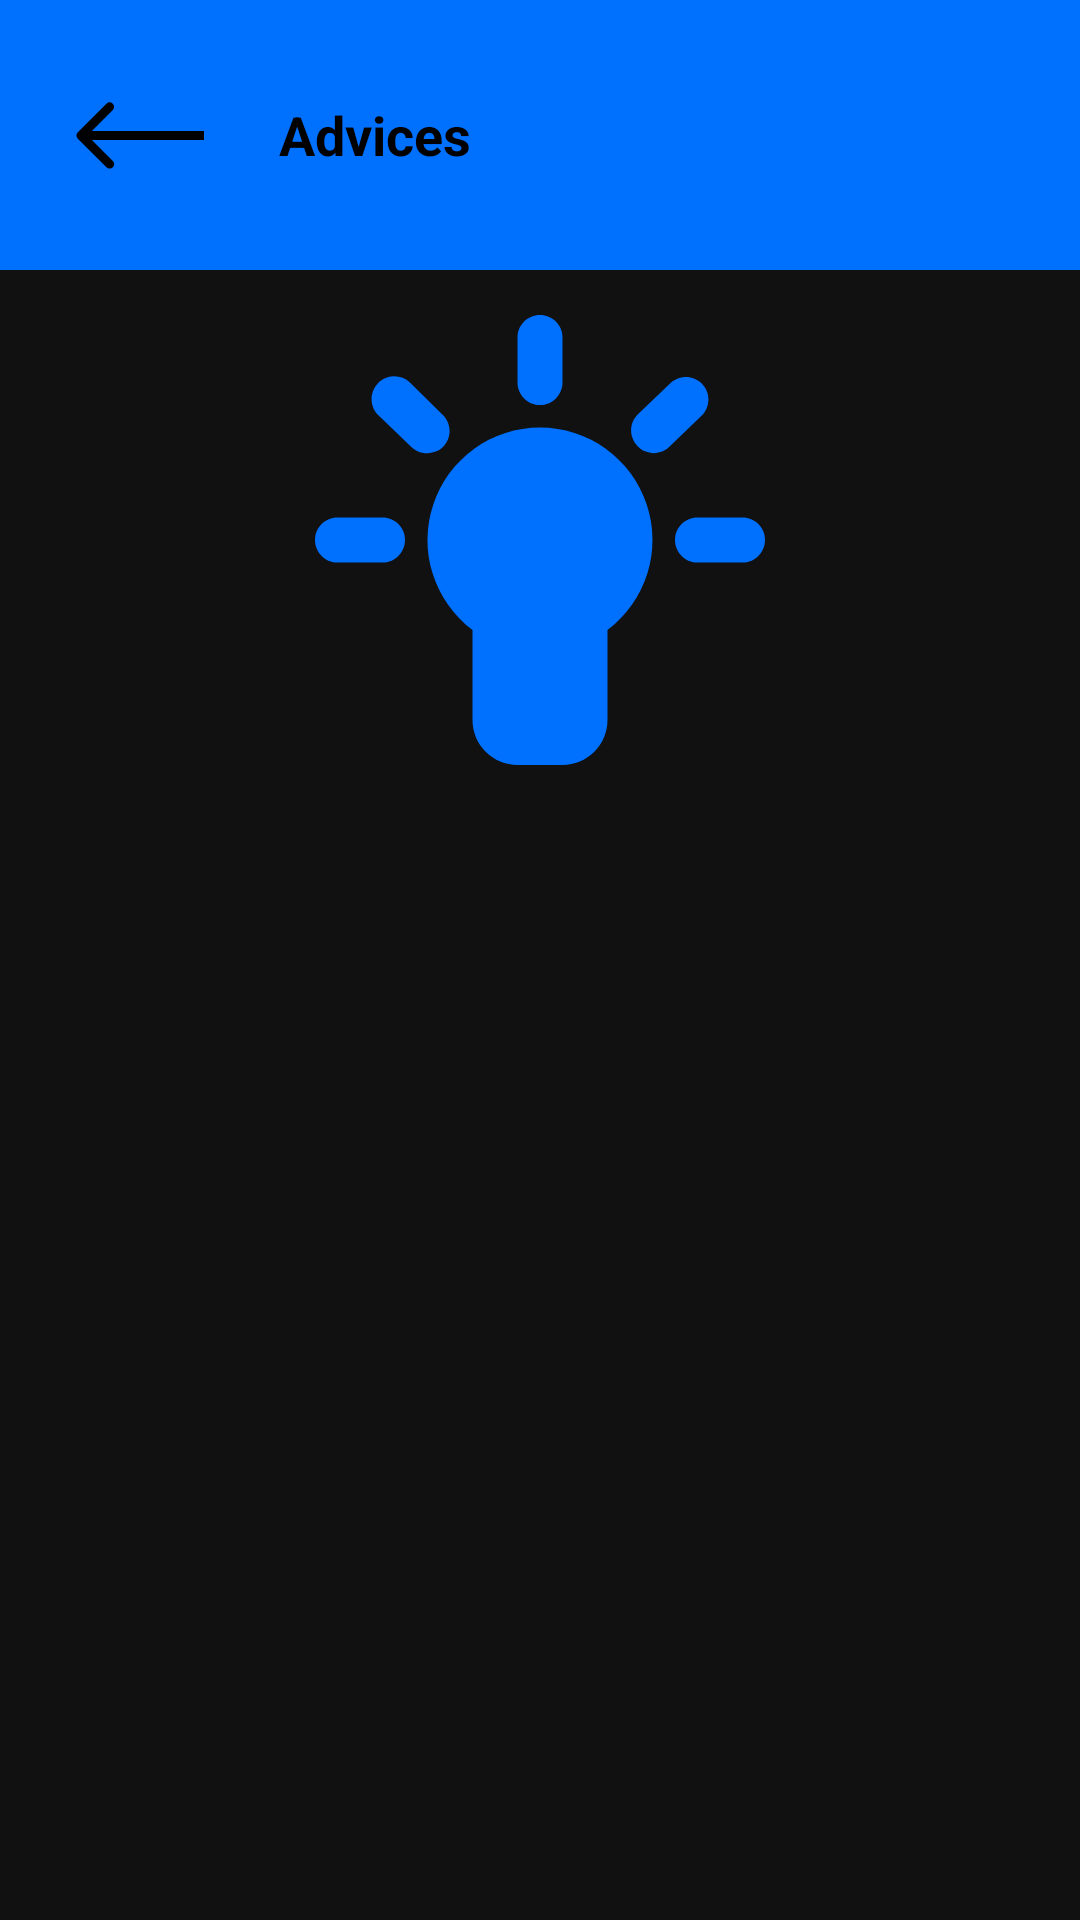

Where to tap for icons on this 1080×1920 app screen, as [x,y]:
arrow left: [140,135]
